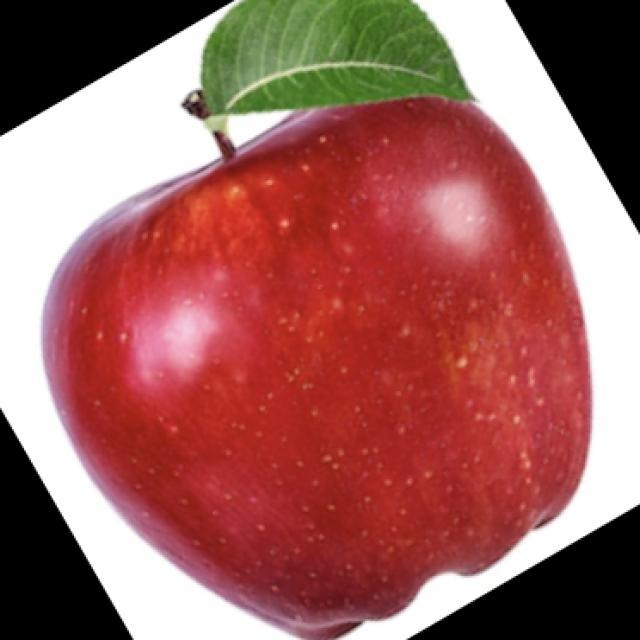Fresh Apple: (95, 130, 587, 617)
